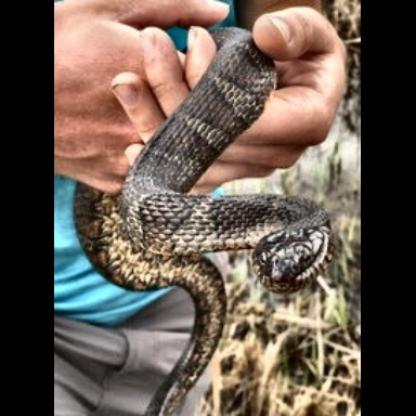Snake: (72, 20, 336, 359)
